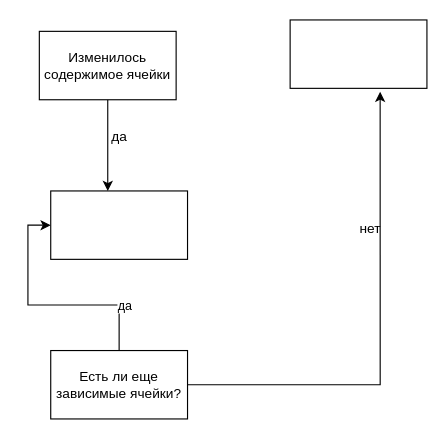
This 447x439 diagram has some shape labels left out. The centre of each missing label's shape, as x and y in pixels:
"Очищаем зависимую ячейку" belongs at (x=119, y=224).
"продолжаем работу" belongs at (x=358, y=53).
